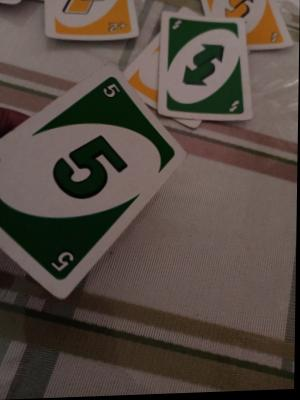-2: (104, 16, 131, 36)
num_5: (44, 247, 77, 278), (97, 85, 123, 102)
reverse: (225, 100, 245, 116), (266, 30, 285, 46), (168, 19, 185, 35)
